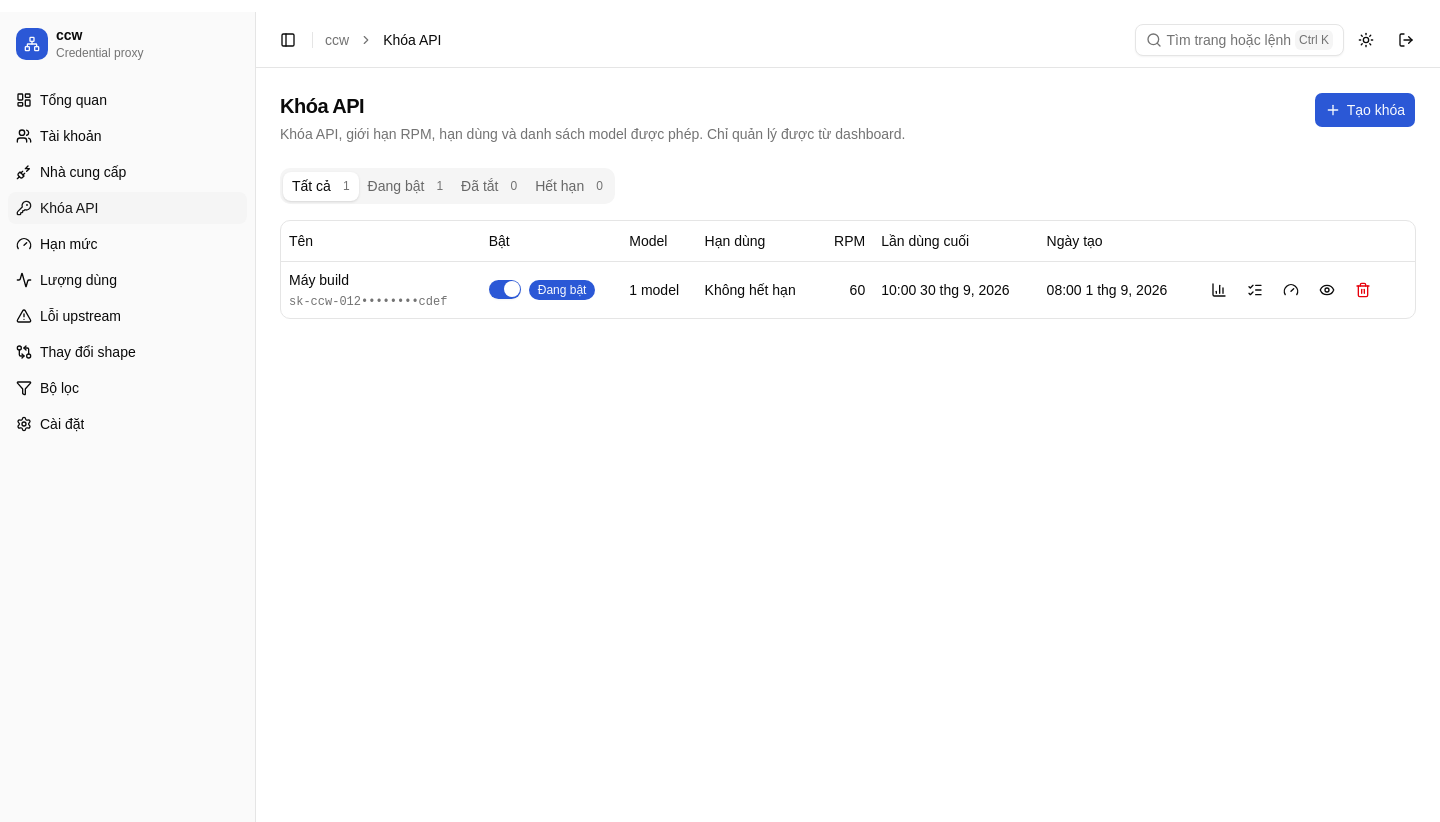
Test: trang khóa API › bật tắt lạc quan và hoàn tác khi lỗi
This screenshot has width=1440, height=822.
Expected: the heading "Khóa API" is shown, [280, 95, 364, 117]
What coordinates should you click on to do the following:
click the switch named "Bật khóa Máy build"
I would click on:
 (505, 290)
Its box is [489, 280, 521, 299].
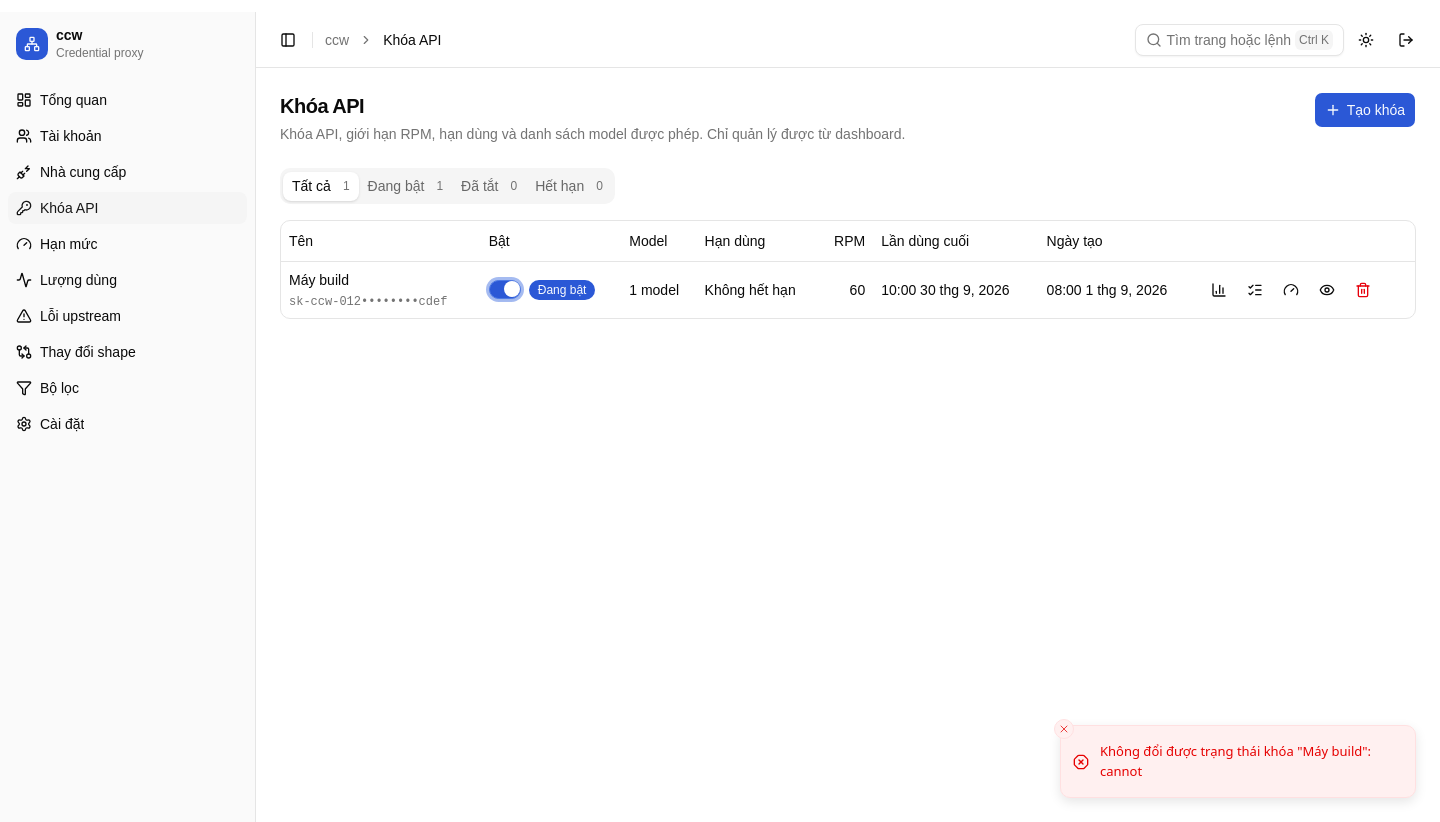
Result: the text "Không đổi được trạng thái khóa \"Máy build\": cannot" is shown at [1100, 742, 1399, 781]
